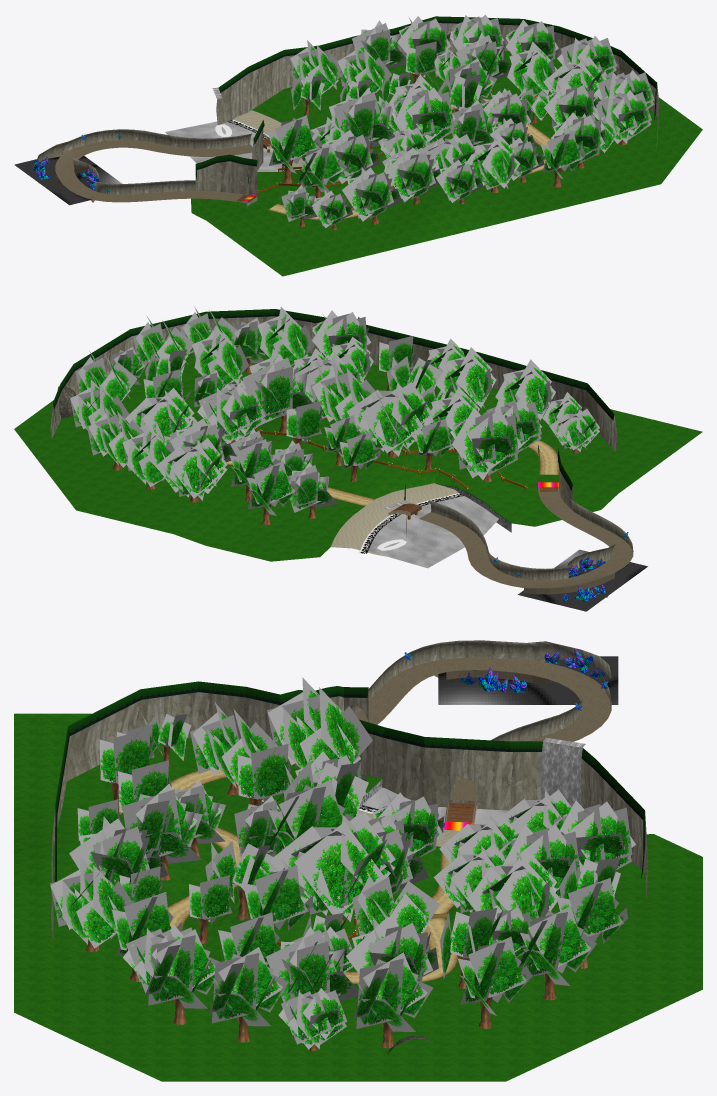
File: course2.glb
The picture shows the model from 3 angles, top to bottom: view 1: azimuth 30°, elevation 25°; view 2: azimuth 150°, elevation 25°; view 3: azimuth 270°, elevation 25°; orthographic projection. The views are drawn at different scales.
Parts seen in each view (by area): view 1: Tex023, poly_grass, poly_wallR, poly_jari, wallkiwa, water0, water, Tex020, poly_sand, poly_road, crystal; view 2: Tex023, poly_grass, poly_wallR, poly_jari, water, wallkiwa, poly_sand, water0, Tex020, poly_road, poly_fence, crystal (+1 smaller); view 3: Tex023, poly_grass, poly_wallR, poly_jari, wallkiwa, water0, poly_road, Tex020, Vtaki, crystal, water.
Part boxes in pixels (x1,y1,x2,y2): Tex023: (267, 14, 654, 228); poly_grass: (191, 51, 702, 276); poly_wallR: (33, 23, 659, 208); poly_jari: (55, 140, 252, 202); wallkiwa: (195, 16, 656, 185); water0: (14, 156, 122, 205); water: (165, 121, 282, 171); Tex020: (282, 73, 625, 230); poly_sand: (233, 110, 303, 170); poly_road: (268, 98, 551, 219); crystal: (33, 134, 121, 193); Tex023: (70, 306, 599, 515); poly_grass: (14, 352, 702, 561); poly_wallR: (50, 316, 632, 580); poly_jari: (419, 491, 633, 594); water: (368, 496, 498, 568); wallkiwa: (53, 309, 614, 505); poly_sand: (331, 483, 458, 556); water0: (518, 549, 647, 611); Tex020: (113, 358, 578, 525); poly_road: (206, 422, 558, 506); poly_fence: (255, 417, 526, 519); crystal: (493, 532, 628, 601); Tex023: (50, 677, 635, 1049); poly_grass: (14, 713, 702, 1081); poly_wallR: (51, 640, 647, 944); poly_jari: (356, 657, 611, 801); wallkiwa: (54, 681, 645, 881); water0: (438, 656, 618, 704); poly_road: (168, 769, 458, 983); Tex020: (86, 744, 589, 1050); Vtaki: (541, 737, 585, 807); crystal: (404, 649, 608, 710); water: (363, 787, 508, 824).
Size of the model in its own units: 830 by 114 by 558.
Materials: 23 (23 with a texture image).
